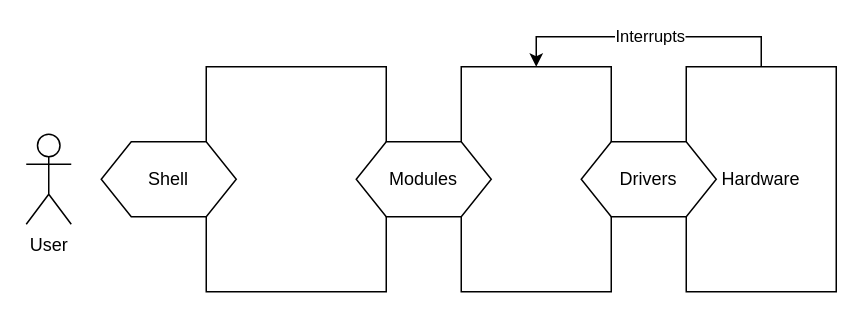
Image size: 863x318. Some labels were removed from this diagram. The shapes that lost their labels are listed below. From the top down, each one's centre as x and y in pixels, then its label:
At point 295,178: "Userspace".
At point 535,178: "Kernel".
